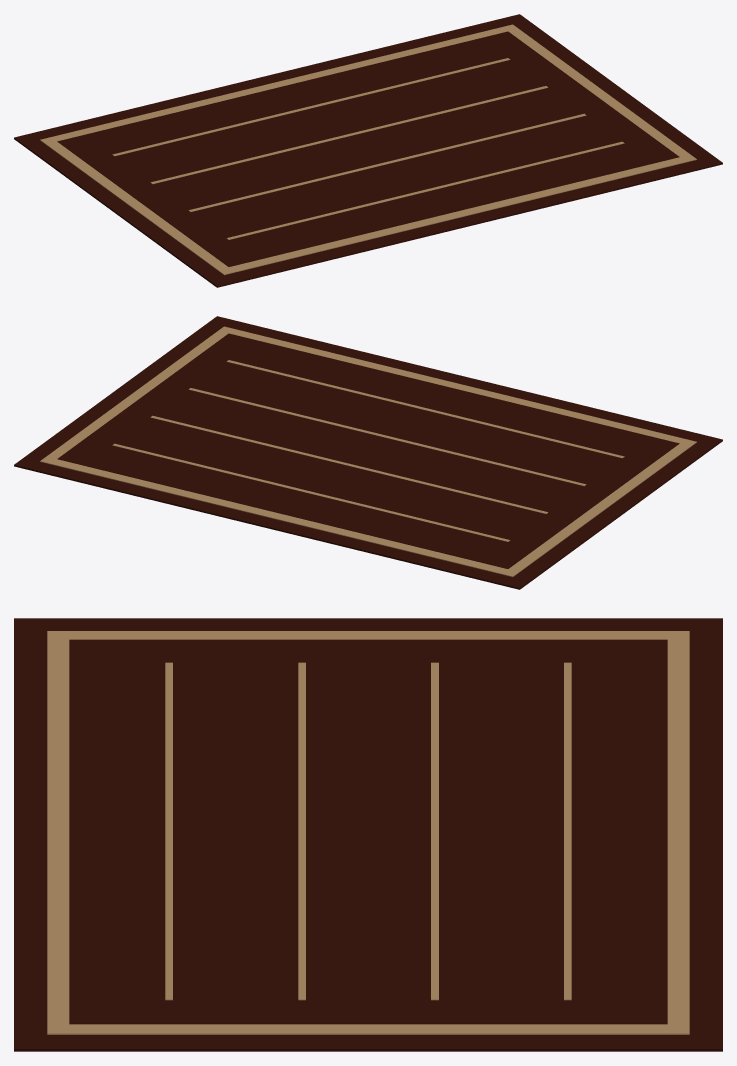
Rendered from rug.glb.
3 renders of one model, top to bottom at view 1: azimuth 30°, elevation 25°; view 2: azimuth 150°, elevation 25°; view 3: azimuth 270°, elevation 25°, orthographic. The views are drawn at different scales.
Visible parts, largest first — view 1: rug; view 2: rug; view 3: rug.
Boxes of the visible parts, <box> form: rug: <box>14,14,722,287</box>; rug: <box>14,316,722,589</box>; rug: <box>14,618,722,1051</box>.
Bounding box in the file's own units: 4.6 × 0.0255 × 3.2.
